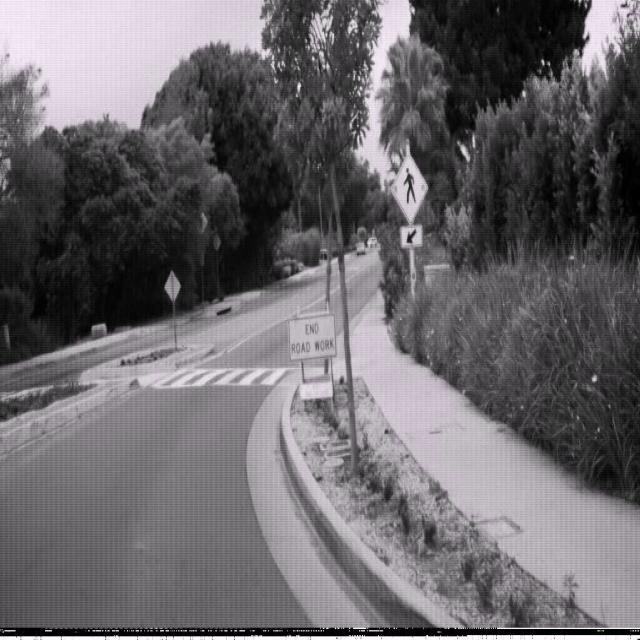pedestrianCrossing: (390, 150, 429, 224)
